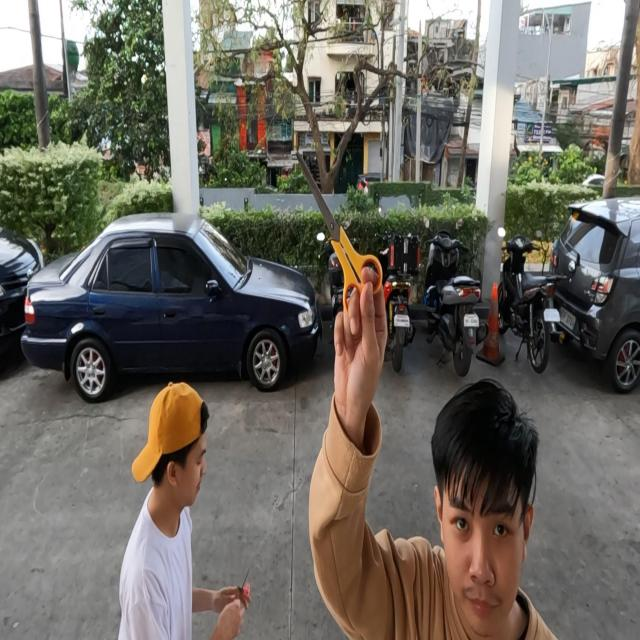scissor: (296, 150, 383, 318)
